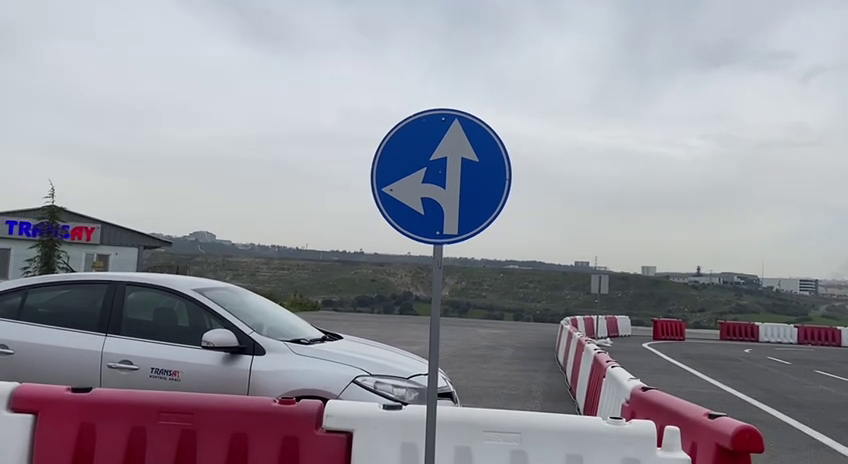forwardAndLeft: (366, 104, 518, 249)
